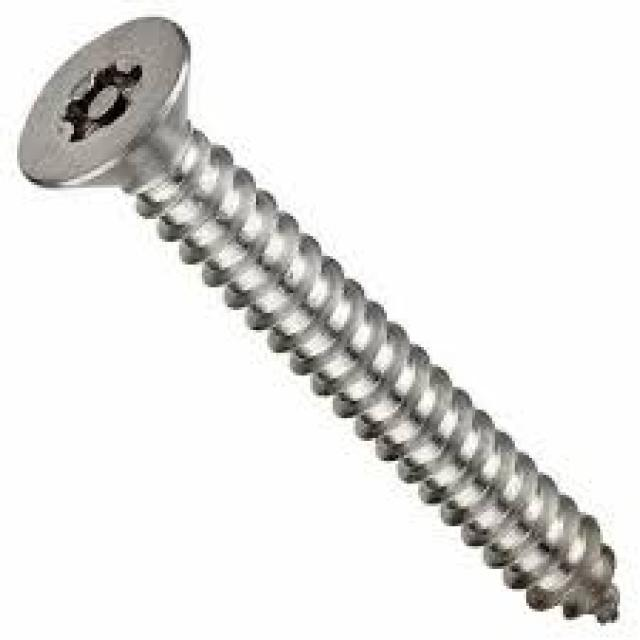Screw: (17, 17, 617, 626)
